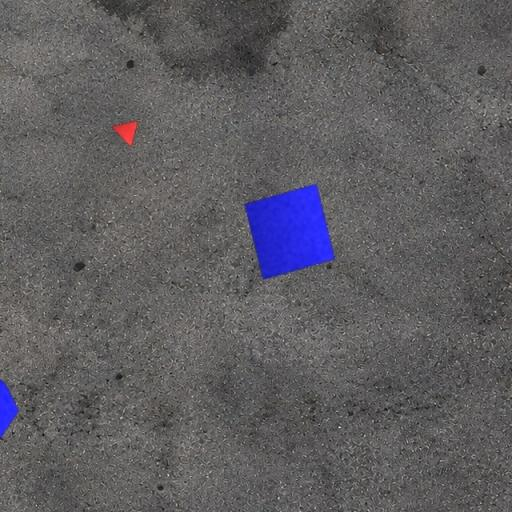BLUE_SQUARE: (243, 183, 336, 281)
